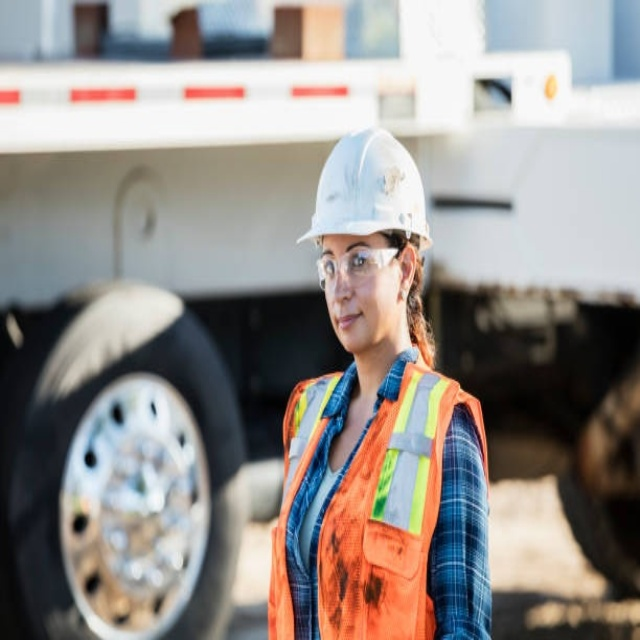Gafas: (315, 245, 403, 290)
Sin_mascara: (332, 307, 374, 345)
